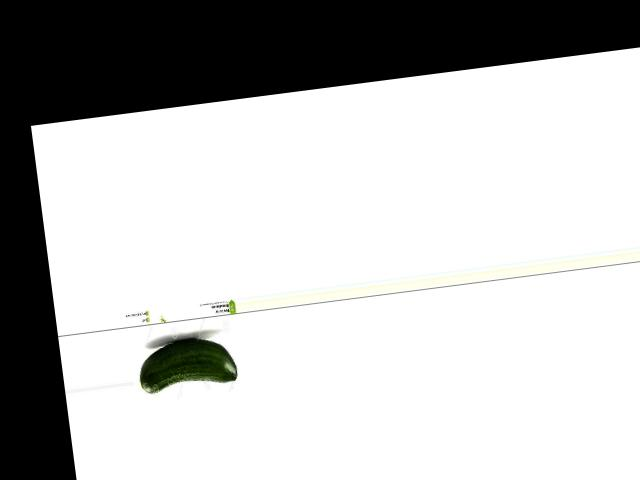cucumber: (135, 333, 237, 393)
